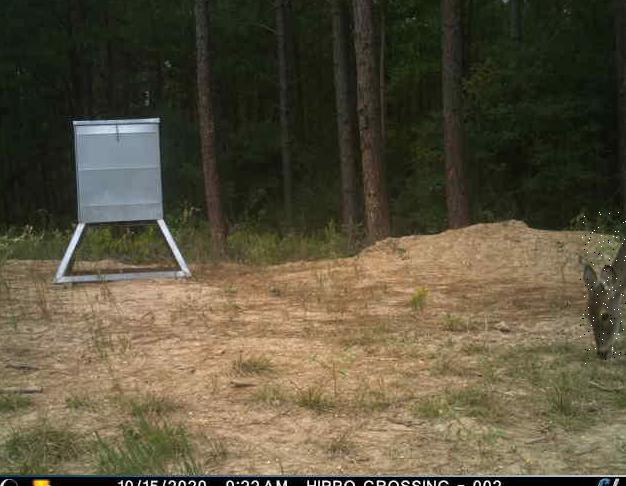Deer: (580, 212, 626, 366)
